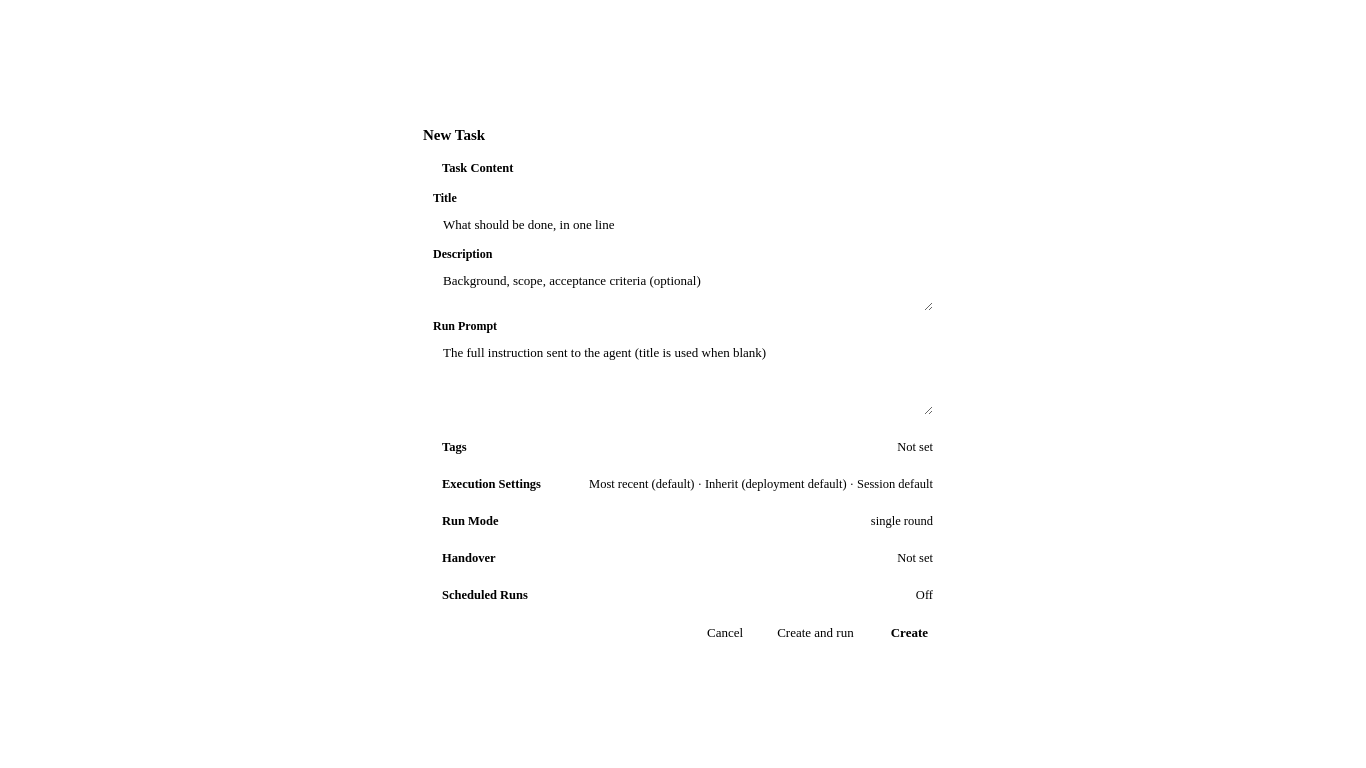
Test: new-task "create and run" (#1621) › user reading the collapsed run summary of an opted-in card is told it will run multi-round
Click the button "Run Mode single round" at coordinates (470, 520), box [423,506,943,536]
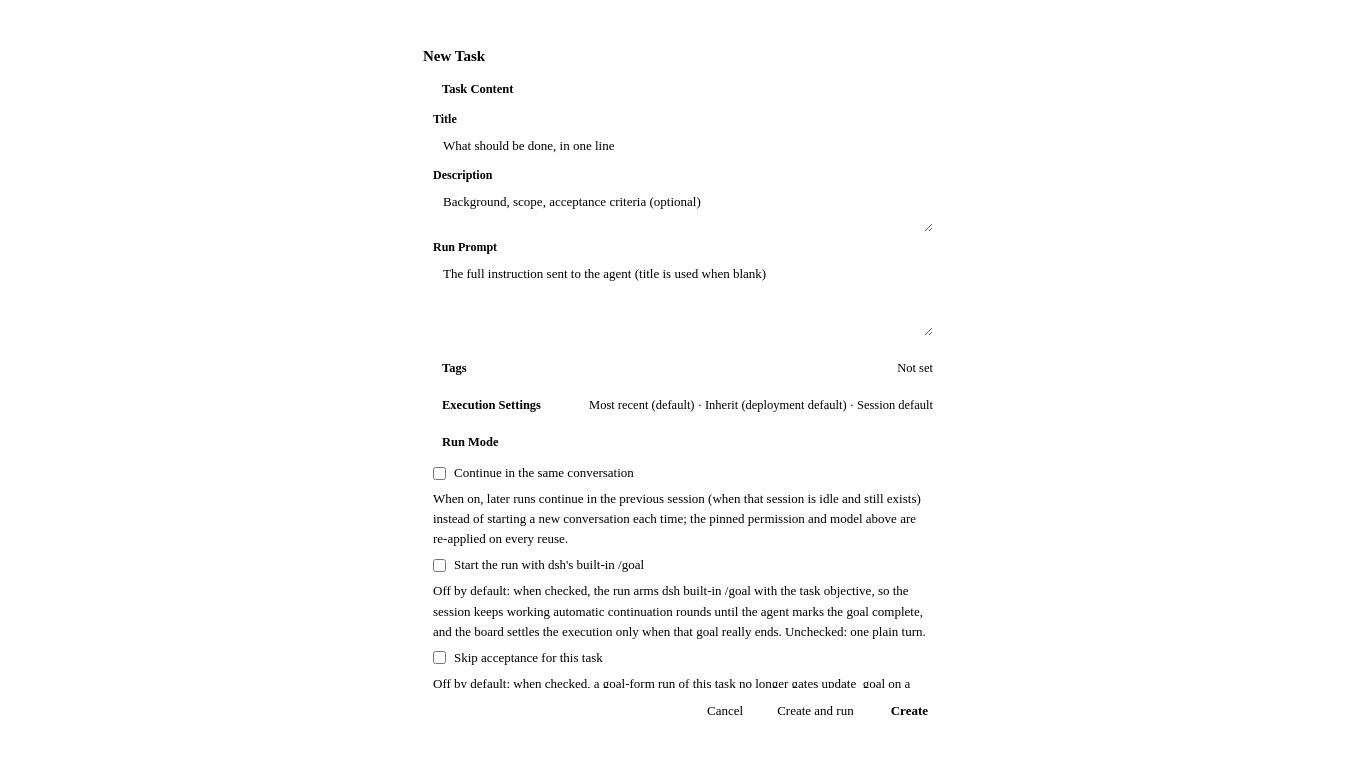
Click the checkbox labelled "Start the run with dsh's built-in /goal" at coordinates (440, 565), box [433,559,446,572]
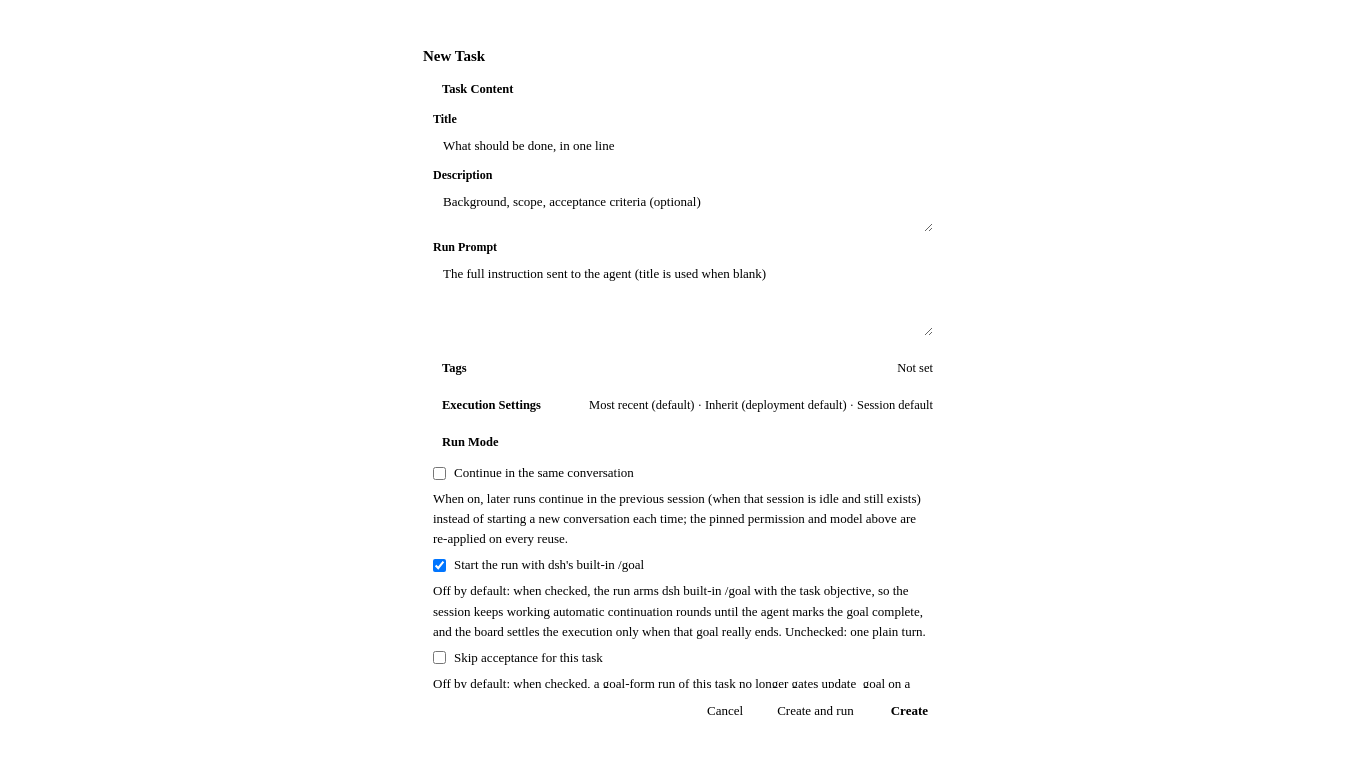
Click the button "Run Mode" at coordinates (470, 442), box [423,428,943,457]
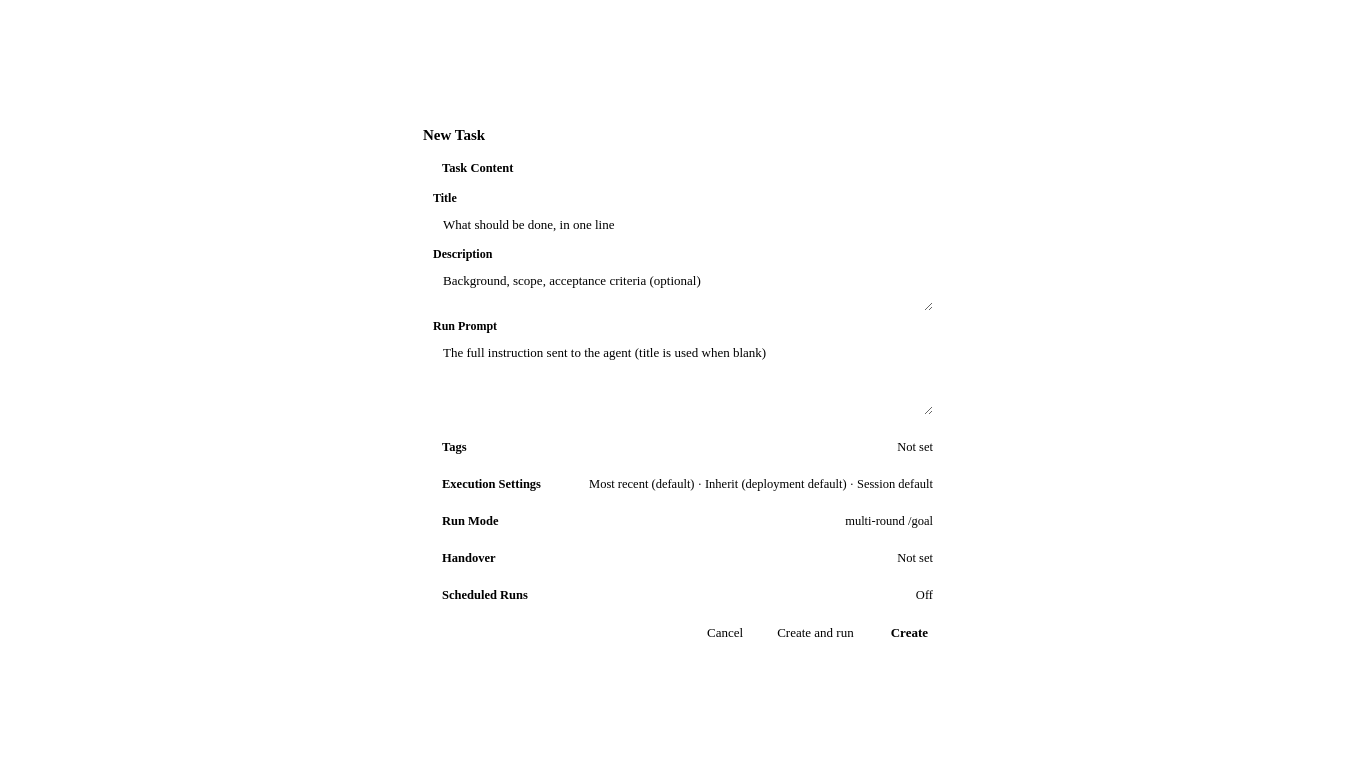
expect the button "Run Mode multi-round /goal" is shown: met, box [423,506,943,536]
